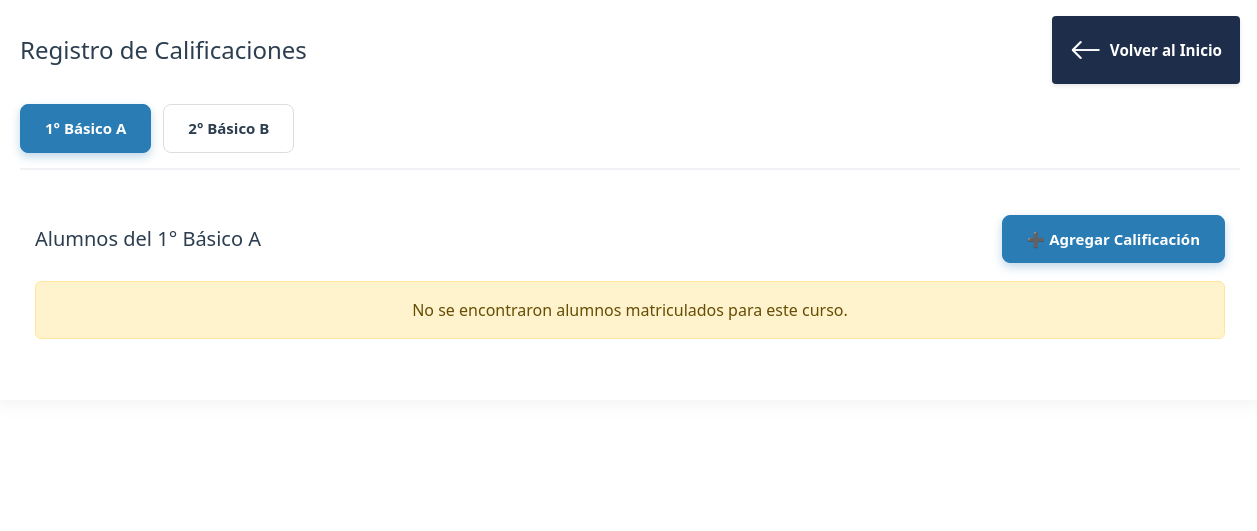
Calificaciones › Modo crear calificación › al hacer click en 'Agregar Calificación' aparece el input de evaluación
Click the button "➕ Agregar Calificación". click: click(1113, 239)
box: [1002, 214, 1225, 263]
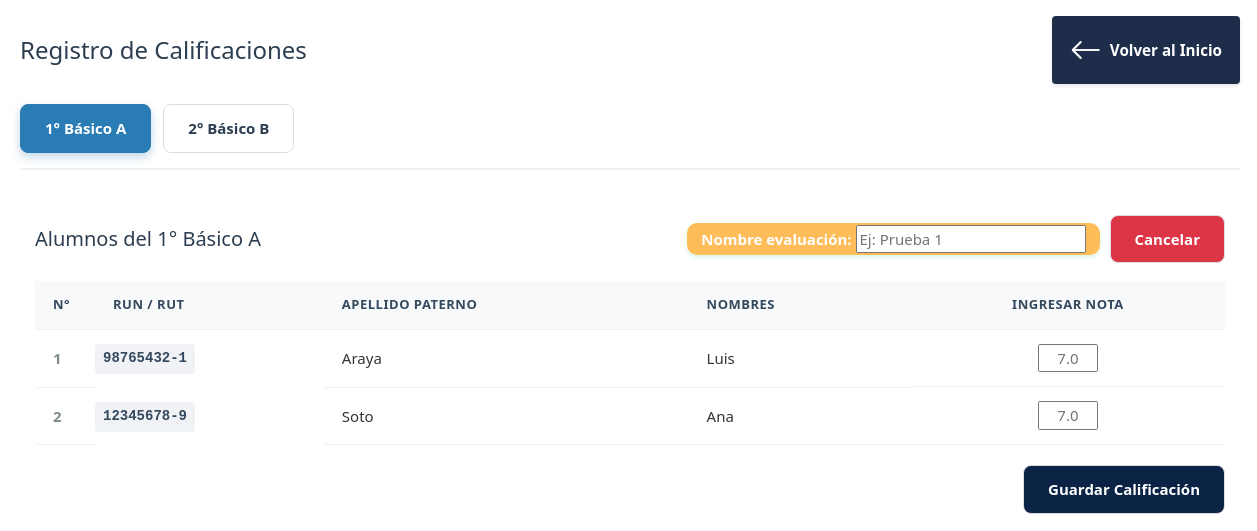
expect the field with placeholder "Ej: Prueba 1" is shown: met, box [856, 224, 1086, 253]
